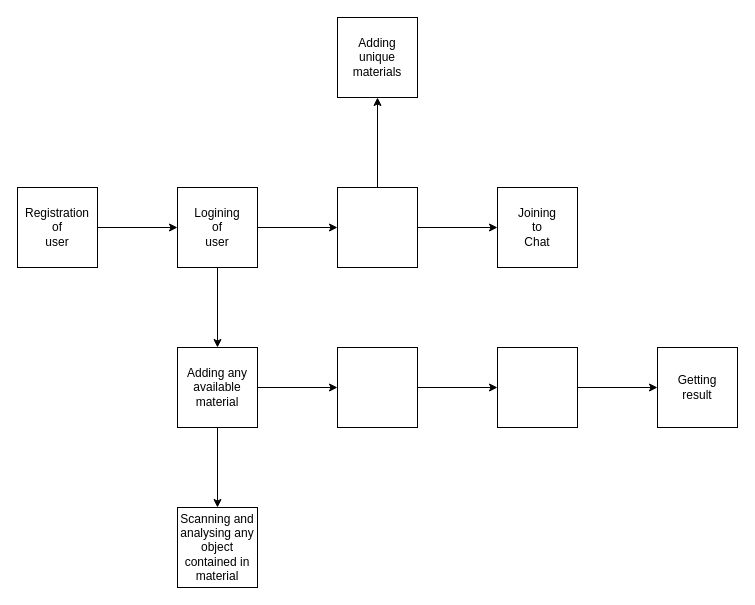
Image size: 755x605. Some labels were removed from this diagram. The shapes that lost their labels are listed below. From the top down, each one's centre as x and y in pixels, then its label:
the point at 377,227: Connecting to Group
the point at 377,387: Passing available Test
the point at 537,387: Answering all questions
